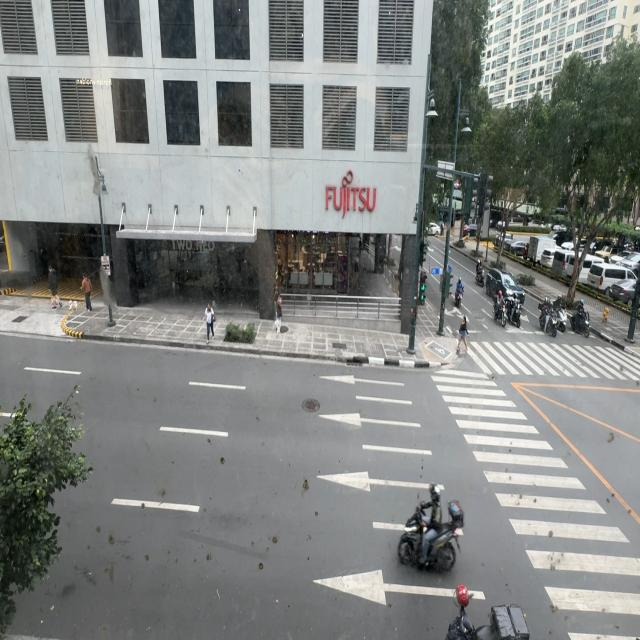crossing: (456, 315, 470, 354)
